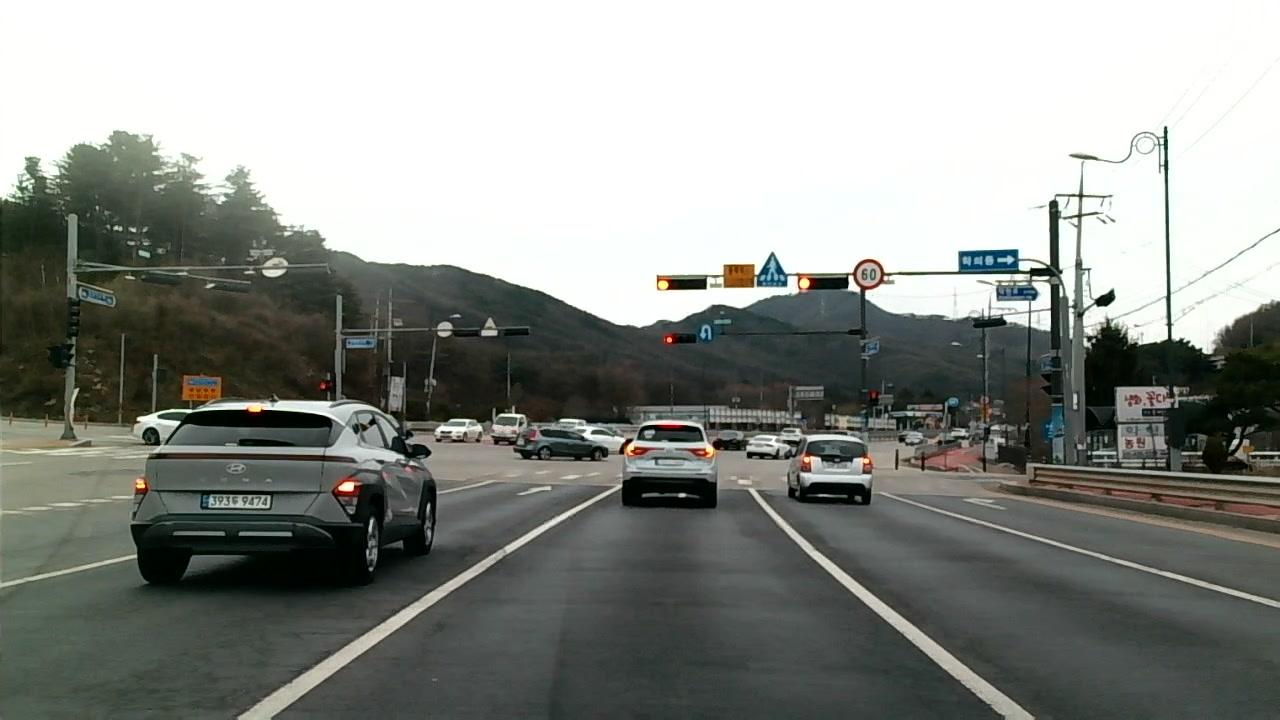erosion: (105, 617, 315, 720)
